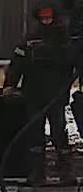gloves: (2, 85, 16, 97)
helmet: (39, 8, 55, 17)
vest: (21, 27, 72, 111)
